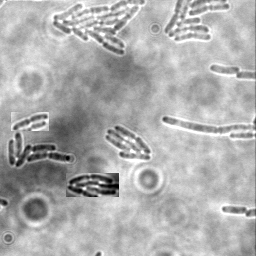Dividing: (161, 114, 255, 133), (11, 112, 49, 131), (221, 204, 248, 215)
Microcolony: (51, 1, 147, 56), (162, 1, 231, 44), (8, 130, 72, 167), (106, 124, 153, 160), (66, 173, 119, 197), (208, 63, 240, 74)
